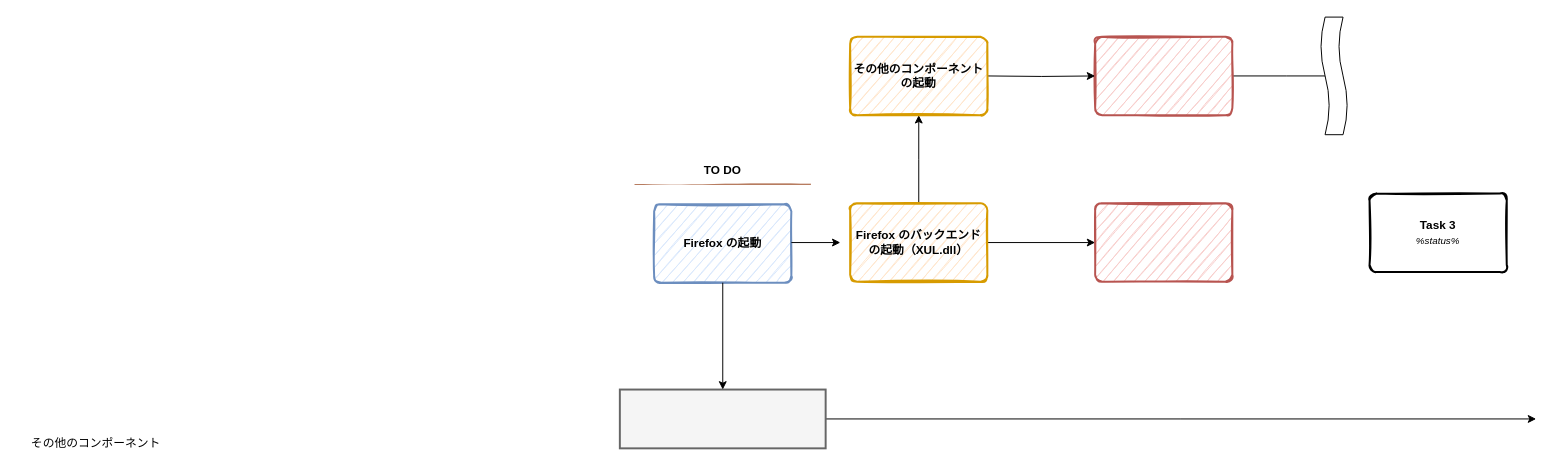
This 1561x475 diagram has some shape labels left out. Here are the shapes that lost their labels. From the top down, the centre of each, then its label:
[1163,75]: 残りのコンポーネント
[1163,242]: Firefox 最初のスクリプト起動（
[722,418]: skeletonUI （起動時に表示されるハリボテUI）
